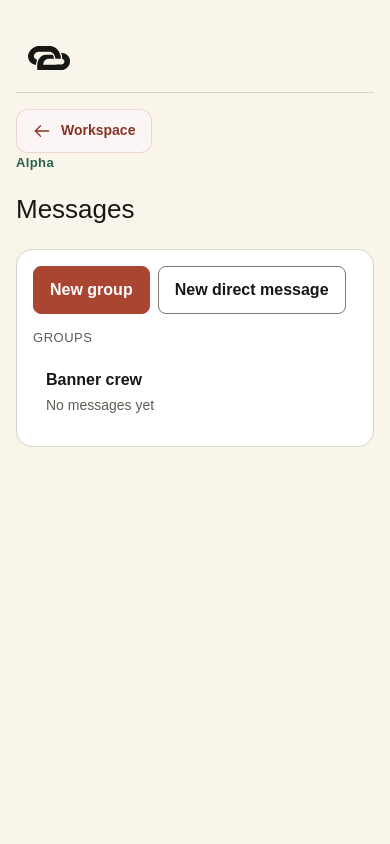
Test: ChatPage › shows a non-creator no member controls, only Leave, and removes the group after leaving
Step 1. Click the button "Banner crew No messages yet" → (94, 379), box [33,354,357,430]
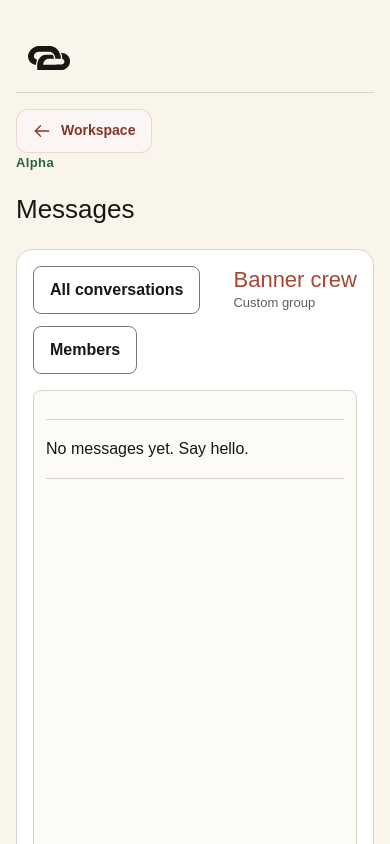
Step 2. Click the button "Members" → (85, 350), box [33,326,137,374]
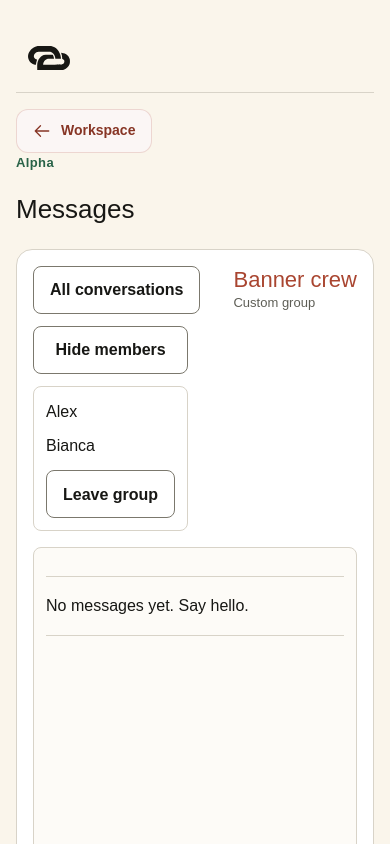
Check: the list named "Members" is shown, box [46,403,95,454]
Step 3. Click the button "Leave group" → (111, 494), box [46,470,175,518]
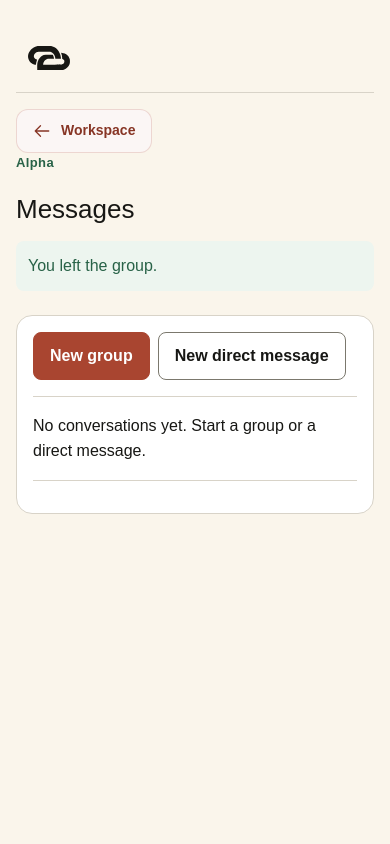
Check: the text "You left the group." is shown, box [16,241,374,291]
Check: the heading "Banner crew" is gone
